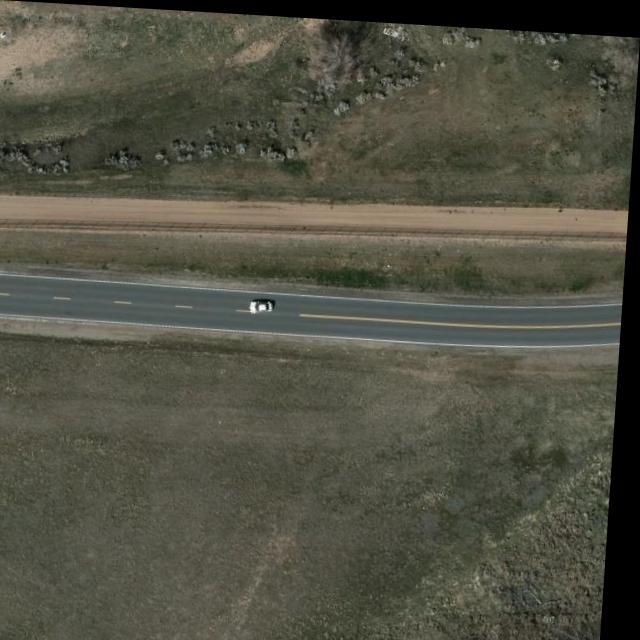vehicle: (254, 297, 277, 310)
